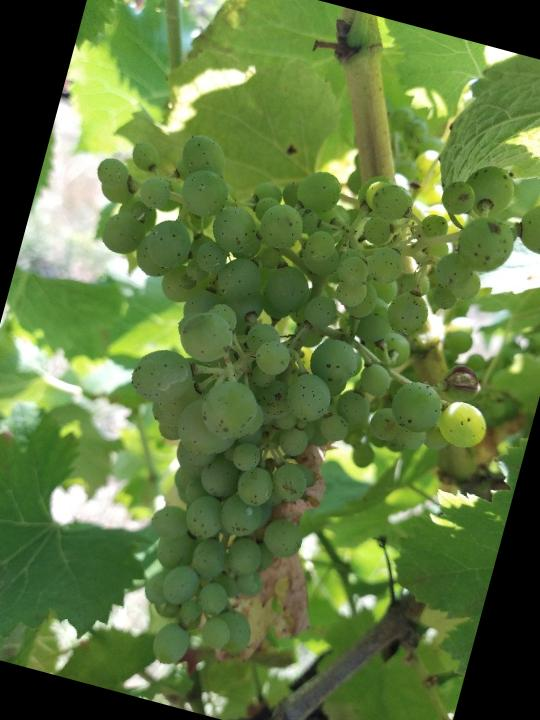grape: (0, 67, 540, 720)
